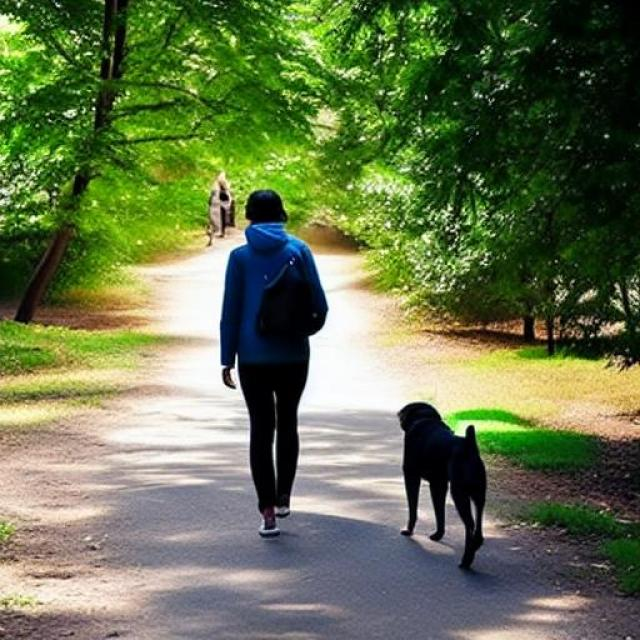Unleashed_Dog: (243, 341, 488, 570)
